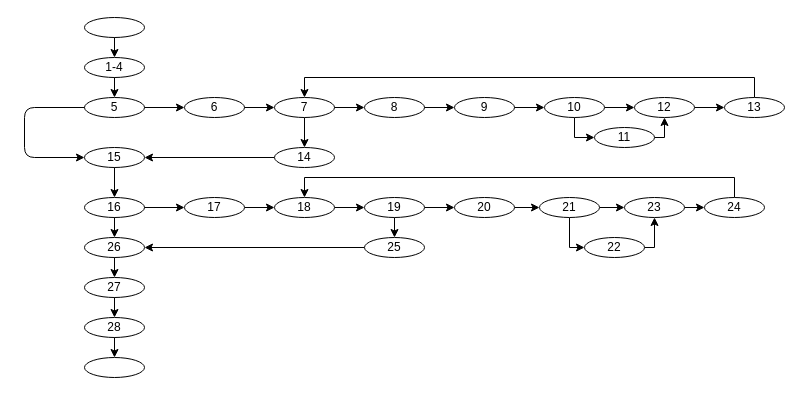
Image size: 802x395. Some labels were removed from this diagram. The centre of each missing label's shape, as x and y in pixels:
"Ende" goes at [114,367].
"Start" goes at [114,27].
